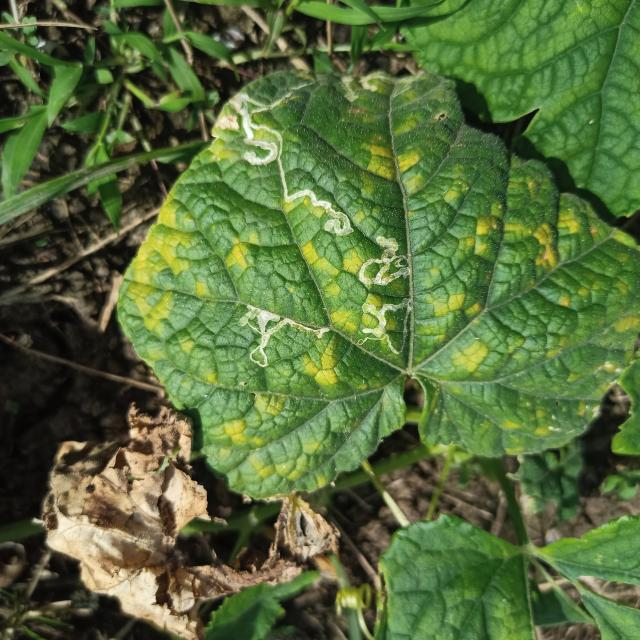disease_cucumber: (134, 87, 601, 480)
